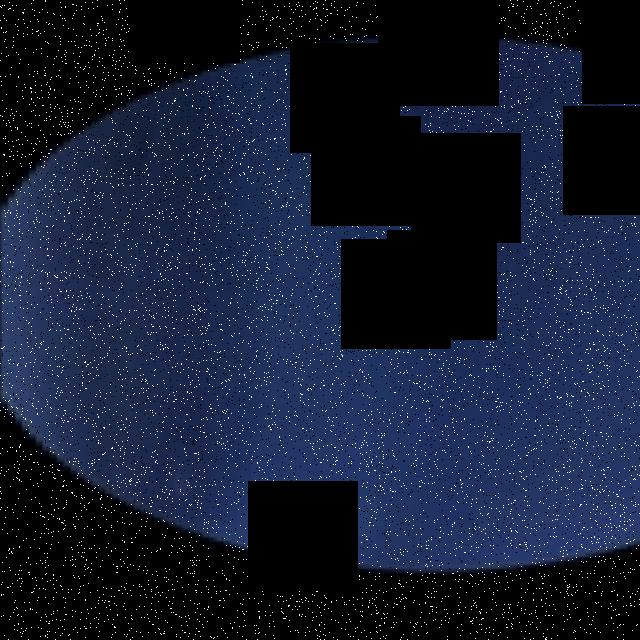Neptune: (0, 36, 640, 576)
